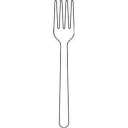Fork: (44, 1, 85, 128)
